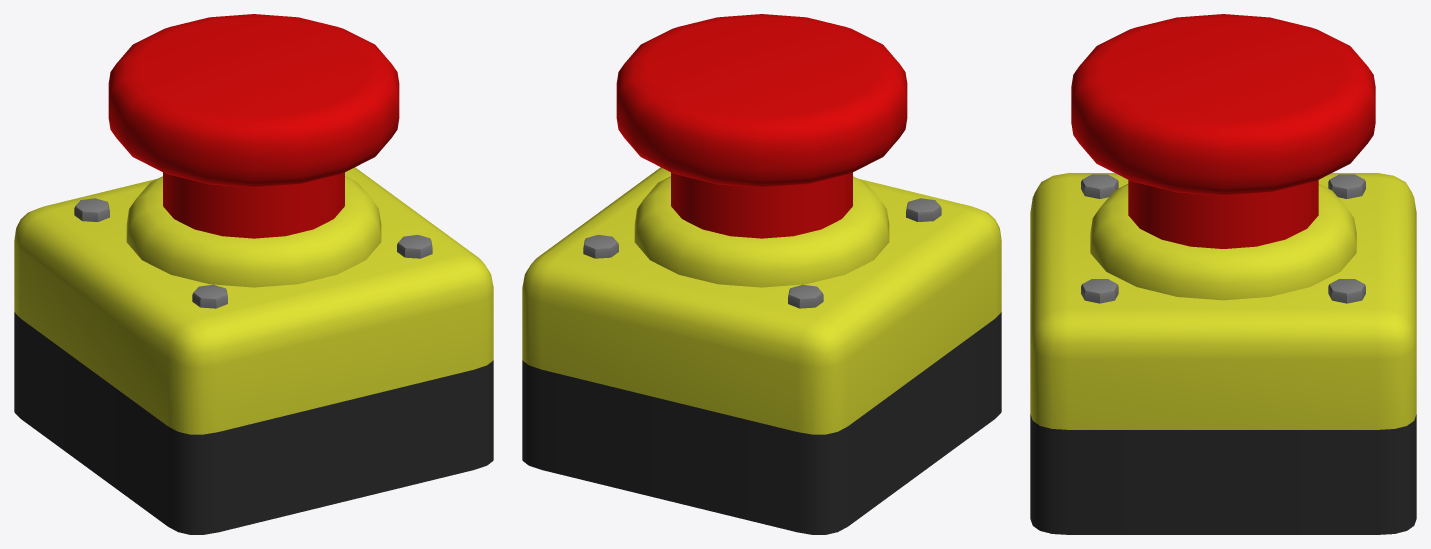
File: Button.fbx
The picture shows the model from 3 angles, left to right: view 1: azimuth 30°, elevation 25°; view 2: azimuth 150°, elevation 25°; view 3: azimuth 270°, elevation 25°; orthographic projection. The views are drawn at different scales.
Visible parts, largest first — view 1: ButtonCase, ButtonStem, buttonBase, ButtonCaseBulb, screw4, screw2, screw1; view 2: ButtonCase, ButtonStem, buttonBase, ButtonCaseBulb, screw1, screw3, screw4; view 3: ButtonCase, ButtonStem, buttonBase, ButtonCaseBulb, screw2, screw3, screw1, screw4.
Part boxes in pixels (x1=…): ButtonCase: x1=14, y1=167, x2=493, y2=434; ButtonStem: x1=108, y1=14, x2=399, y2=238; buttonBase: x1=14, y1=312, x2=493, y2=534; ButtonCaseBulb: x1=126, y1=176, x2=381, y2=287; screw4: x1=74, y1=198, x2=109, y2=221; screw2: x1=397, y1=235, x2=432, y2=258; screw1: x1=192, y1=284, x2=227, y2=308; ButtonCase: x1=522, y1=167, x2=1001, y2=434; ButtonStem: x1=616, y1=14, x2=907, y2=238; buttonBase: x1=522, y1=312, x2=1001, y2=534; ButtonCaseBulb: x1=634, y1=176, x2=889, y2=287; screw1: x1=906, y1=198, x2=941, y2=221; screw3: x1=583, y1=235, x2=618, y2=258; screw4: x1=788, y1=284, x2=823, y2=308; ButtonCase: x1=1030, y1=173, x2=1416, y2=429; ButtonStem: x1=1071, y1=14, x2=1375, y2=248; buttonBase: x1=1030, y1=414, x2=1416, y2=534; ButtonCaseBulb: x1=1090, y1=184, x2=1356, y2=300; screw2: x1=1081, y1=279, x2=1118, y2=303; screw3: x1=1328, y1=279, x2=1365, y2=303; screw1: x1=1081, y1=174, x2=1118, y2=198; screw4: x1=1328, y1=174, x2=1365, y2=198.
Bounding box in the file's own units: 50 × 54.75 × 50.
